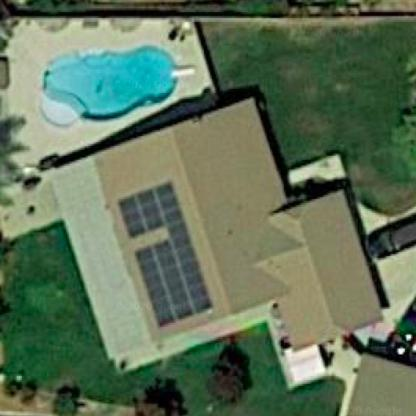car: (365, 211, 416, 263)
solar_panel: (112, 178, 221, 325)
swimming_pool: (36, 24, 192, 133)
